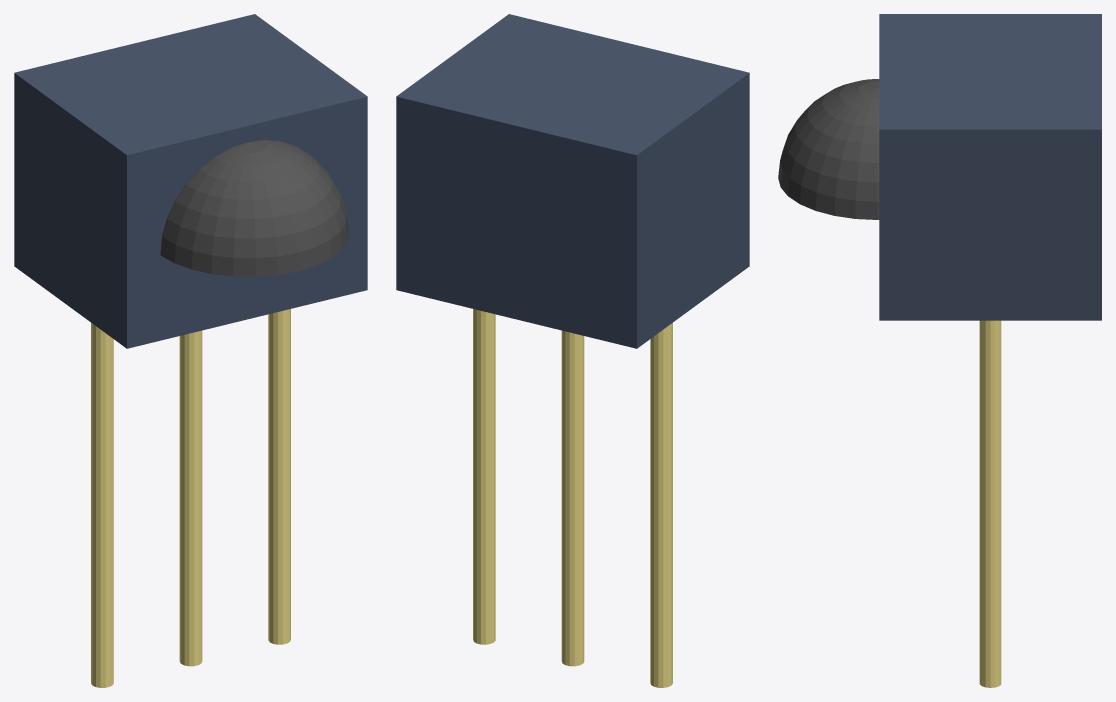
Rendered from ir-receiver-tsop38238.glb.
3 views of the same model, side by side, from view 1: azimuth 30°, elevation 25°; view 2: azimuth 150°, elevation 25°; view 3: azimuth 270°, elevation 25° (orthographic).
Visible parts, largest first — view 1: ir-receiver-tsop38238_mesh; view 2: ir-receiver-tsop38238_mesh; view 3: ir-receiver-tsop38238_mesh.
Part boxes in pixels (x1,y1,x2,y2): ir-receiver-tsop38238_mesh: [14, 14, 367, 687]; ir-receiver-tsop38238_mesh: [396, 14, 749, 687]; ir-receiver-tsop38238_mesh: [778, 14, 1101, 687].
Size of the model in its own units: 6.9 by 15.8 by 8.15.
